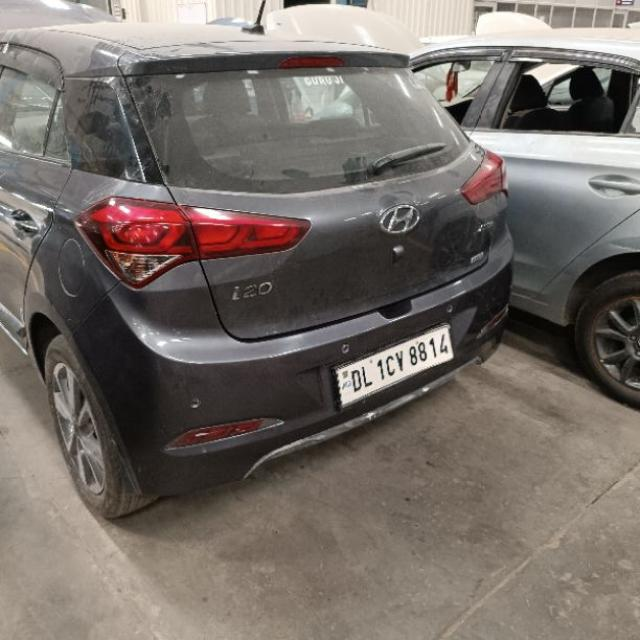license_plate: (329, 321, 455, 411)
